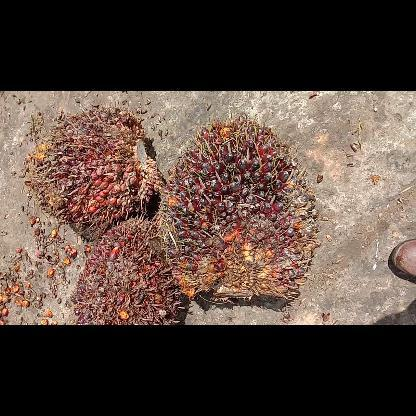Kurang masak: (26, 108, 156, 240)
TBS masak: (158, 115, 320, 301), (70, 218, 190, 324)
